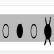correct: (16, 21, 24, 40)
no answer: (30, 21, 38, 40), (2, 21, 9, 40)
not correct: (43, 15, 52, 47)
